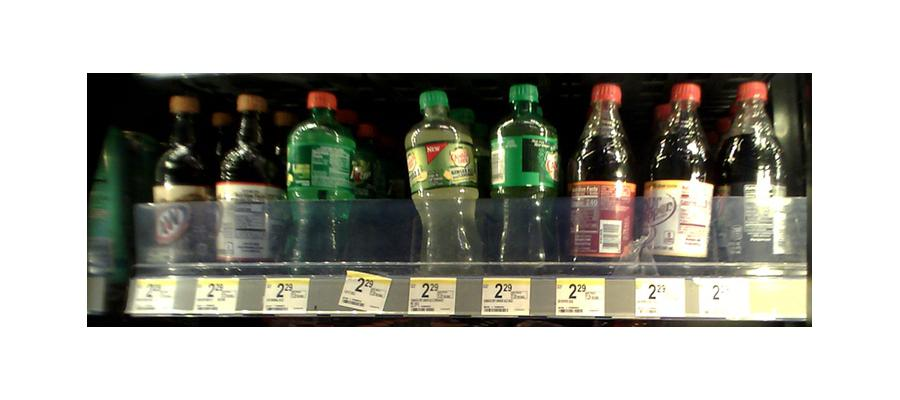bottle: (406, 90, 483, 276), (718, 75, 788, 277), (568, 79, 639, 272), (489, 85, 561, 269), (283, 89, 357, 268), (647, 79, 715, 270), (148, 100, 212, 270), (217, 101, 278, 266)
